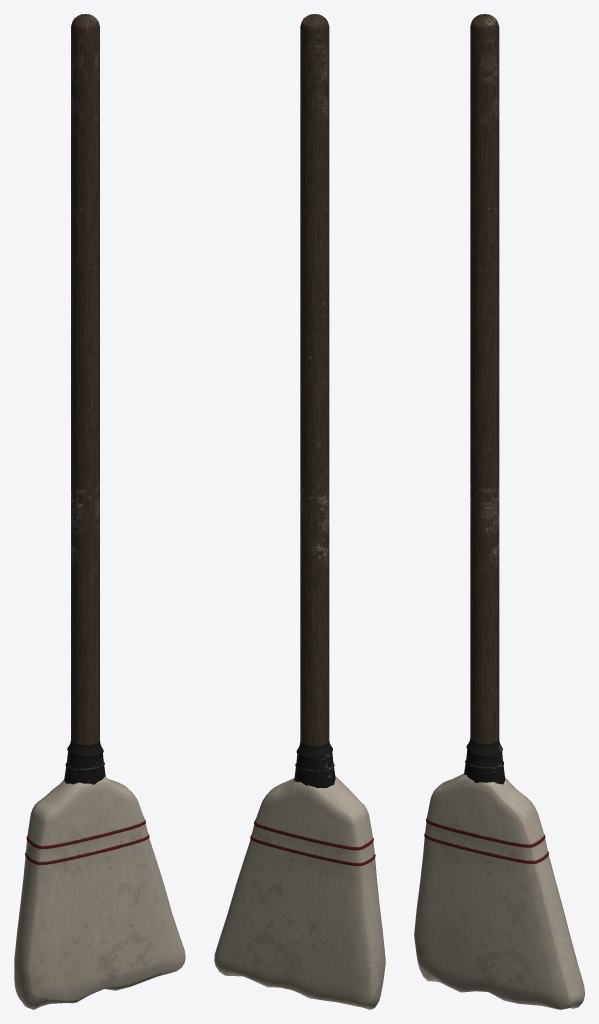
The model's file is obj_broom_addb99.glb.
3 renders of one model, left to right at view 1: azimuth 30°, elevation 25°; view 2: azimuth 150°, elevation 25°; view 3: azimuth 330°, elevation 25°, orthographic.
Parts seen in each view (by area): view 1: obj_broom_addb99; view 2: obj_broom_addb99; view 3: obj_broom_addb99.
Boxes of the visible parts, box(x1,y1,x2,y2) form: obj_broom_addb99: box(14, 14, 185, 1009); obj_broom_addb99: box(214, 14, 385, 1009); obj_broom_addb99: box(414, 14, 584, 1009).
Bounding box in the file's own units: 0.2274 × 1.3 × 0.0527.
Materials: 1 (1 with a texture image).
